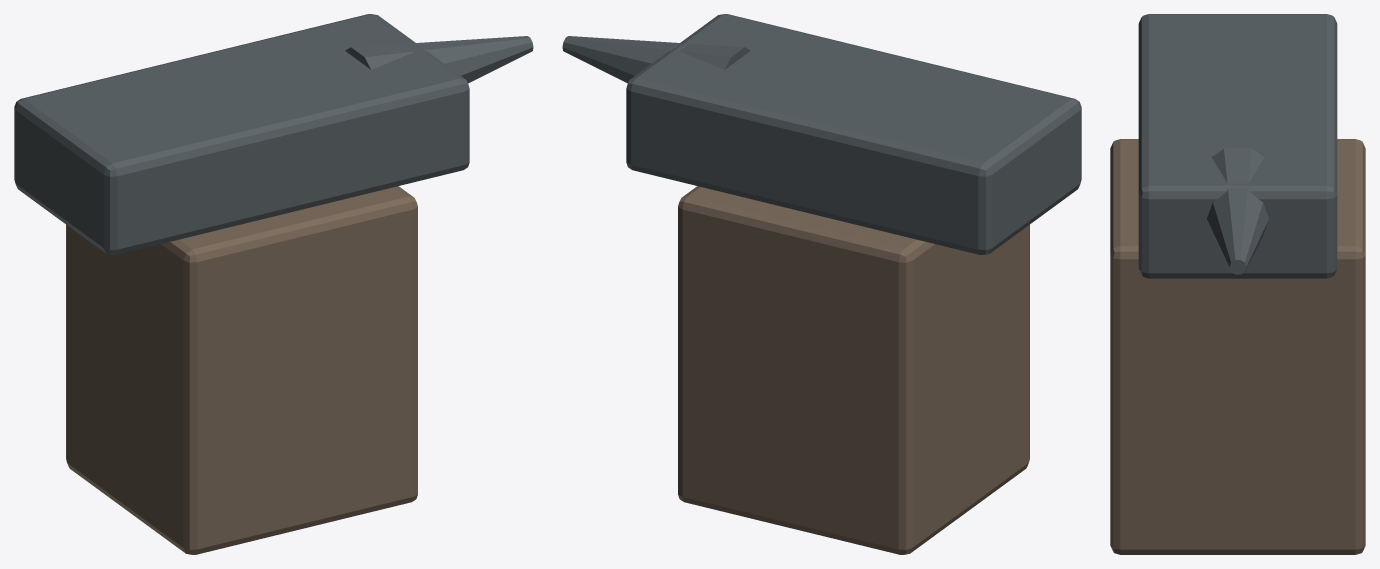
Rendered from anvil.glb.
3 views of the same model, side by side, from view 1: azimuth 30°, elevation 25°; view 2: azimuth 150°, elevation 25°; view 3: azimuth 270°, elevation 25° (orthographic).
Visible parts, largest first — view 1: Body.055; view 2: Body.055; view 3: Body.055.
Part boxes in pixels (x1,y1,x2,y2): Body.055: [14, 14, 533, 554]; Body.055: [562, 14, 1081, 554]; Body.055: [1110, 14, 1365, 554].
Bounding box in the file's own units: 0.9654 × 0.7961 × 0.45.
